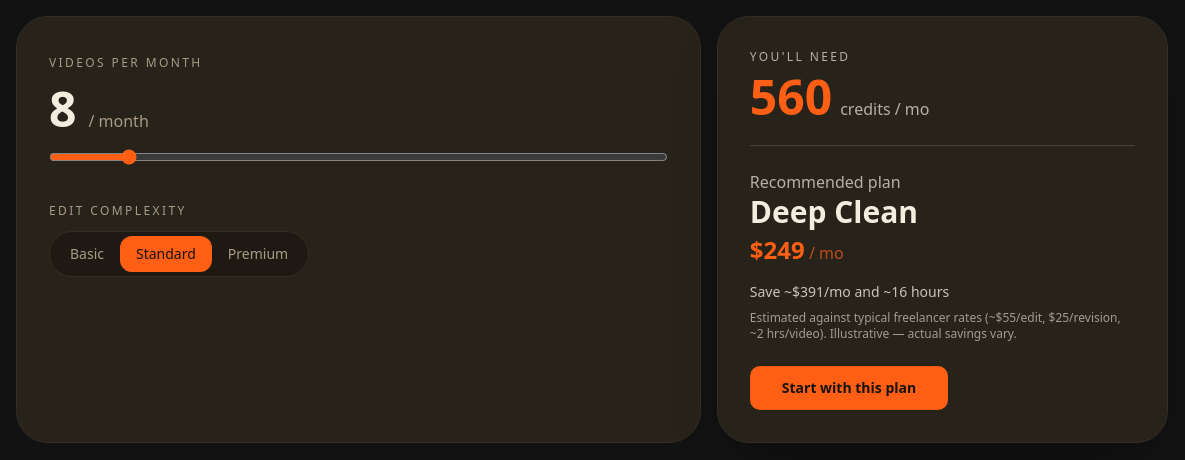
PlanCalculator › updates the recommendation when videos change
Set the slider labelled "Videos per month" to "40" at (455, 157), box [49,149,668,165]
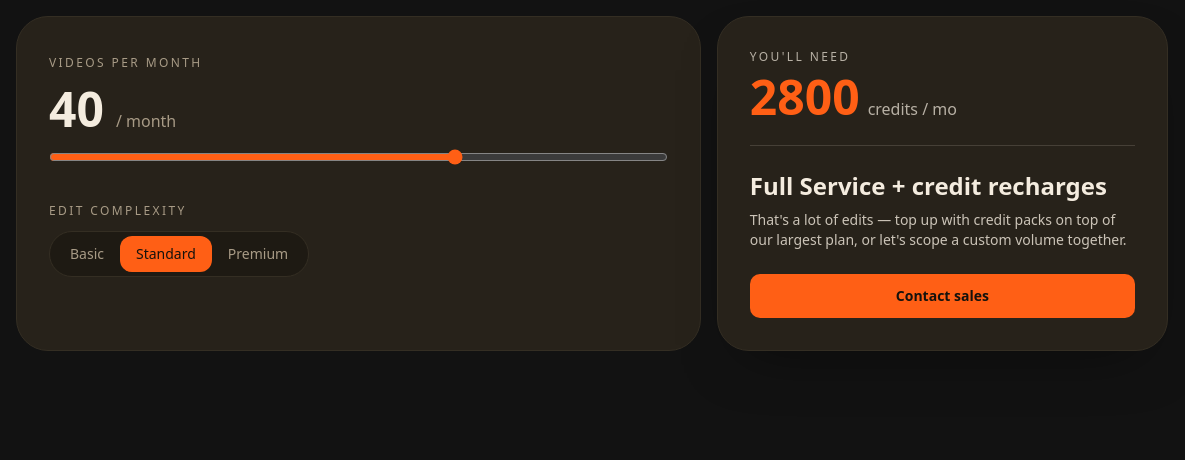
Now the text "Full Service + credit recharges" is shown, box [750,170,1135,202]
